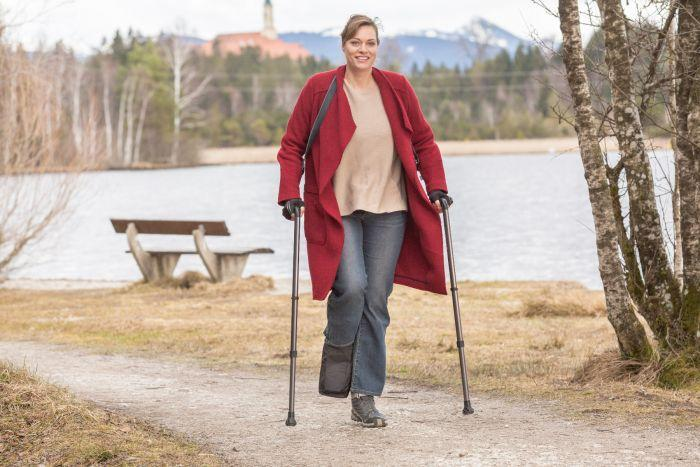crutches: (276, 14, 475, 428)
